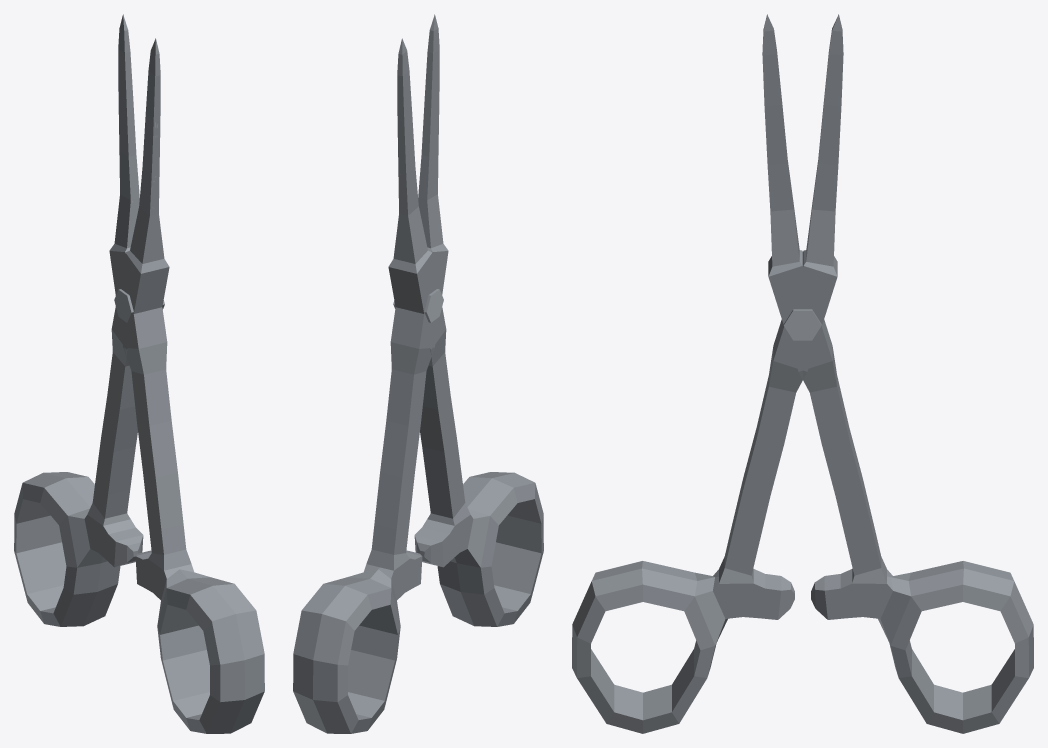
Rendered from Scissors.fbx.
3 views of the same model, side by side, from view 1: azimuth 30°, elevation 25°; view 2: azimuth 150°, elevation 25°; view 3: azimuth 270°, elevation 25° (orthographic). The views are drawn at different scales.
Parts seen in each view (by area): view 1: Scissors; view 2: Scissors; view 3: Scissors.
Part boxes in pixels (<box>): Scissors: <box>14,14,264,733</box>; Scissors: <box>293,14,543,733</box>; Scissors: <box>572,14,1033,733</box>.
Bounding box in the file's own units: 3.34 × 40.11 × 23.55.
Materials: 1 (1 with a texture image).
